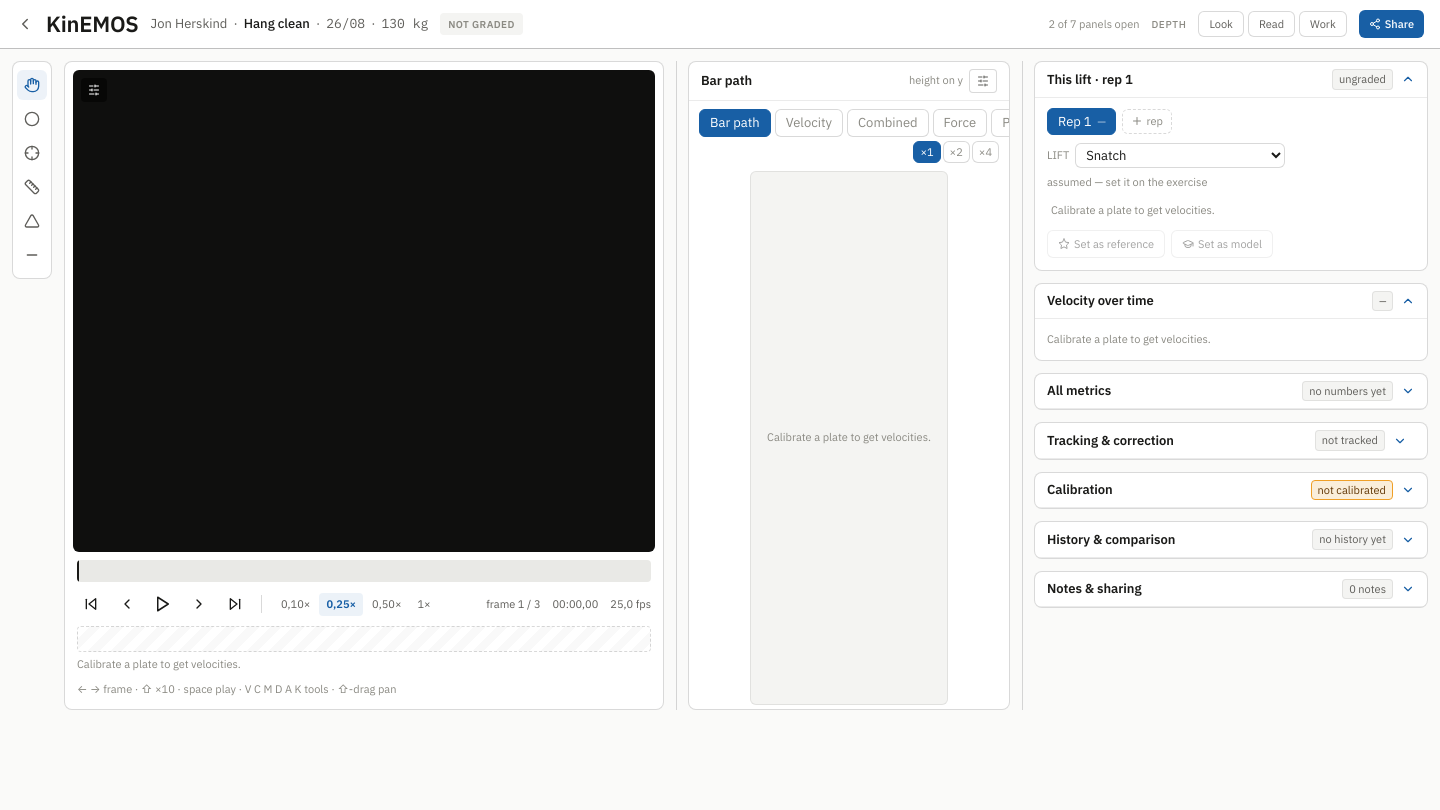
it: KinemosViewer › says distances are in pixels until a plate is outlined
This screenshot has width=1440, height=810.
Check: the text "Hang clean" is shown, box [244,14,310,34]
Check: the text "not calibrated" is shown, box [1310,480,1393,500]
Click the button "Calibration not calibrated": (1080, 490) [1035,473,1427,507]
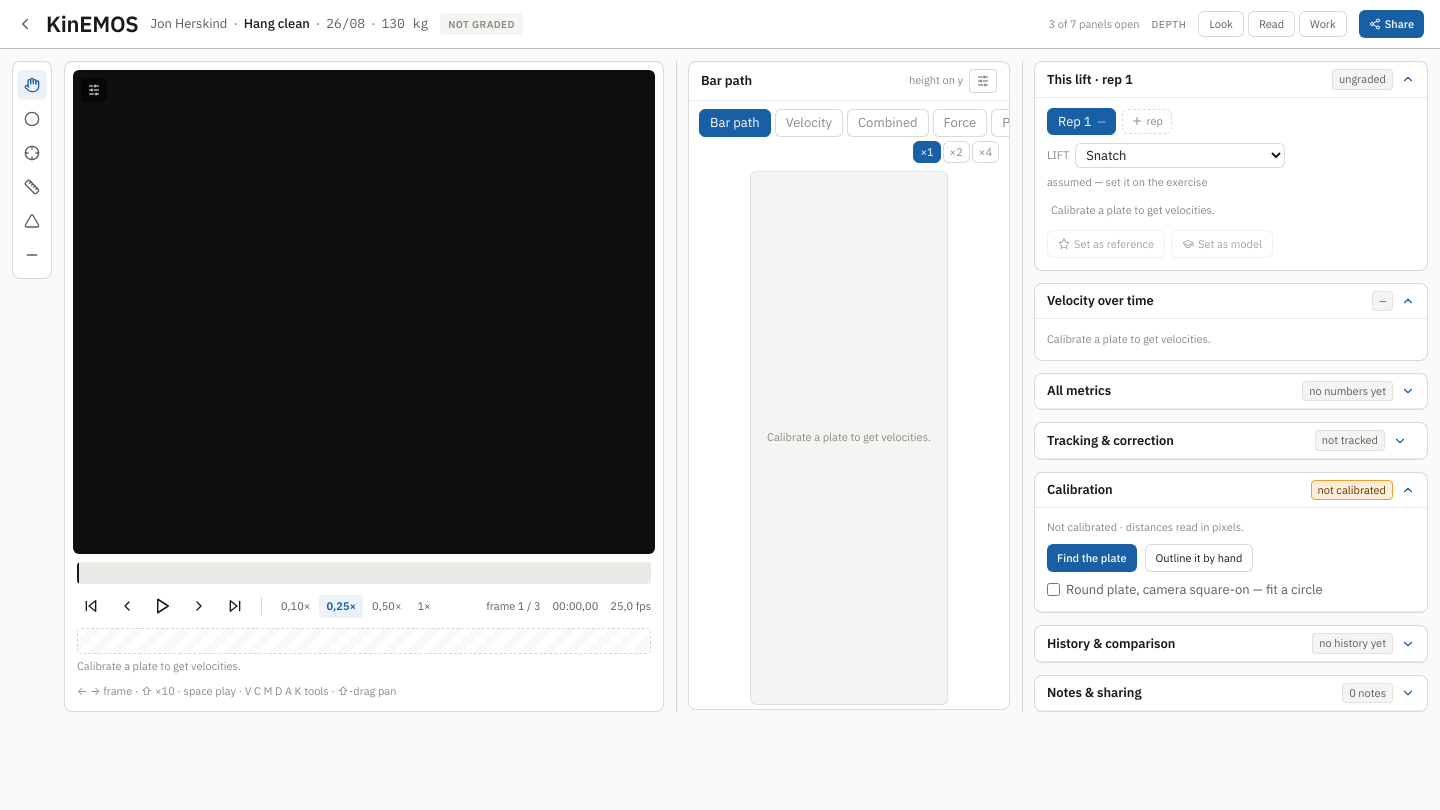
Check: the text "Not calibrated · distances read in pixels." is shown, box [1047,520,1244,534]
